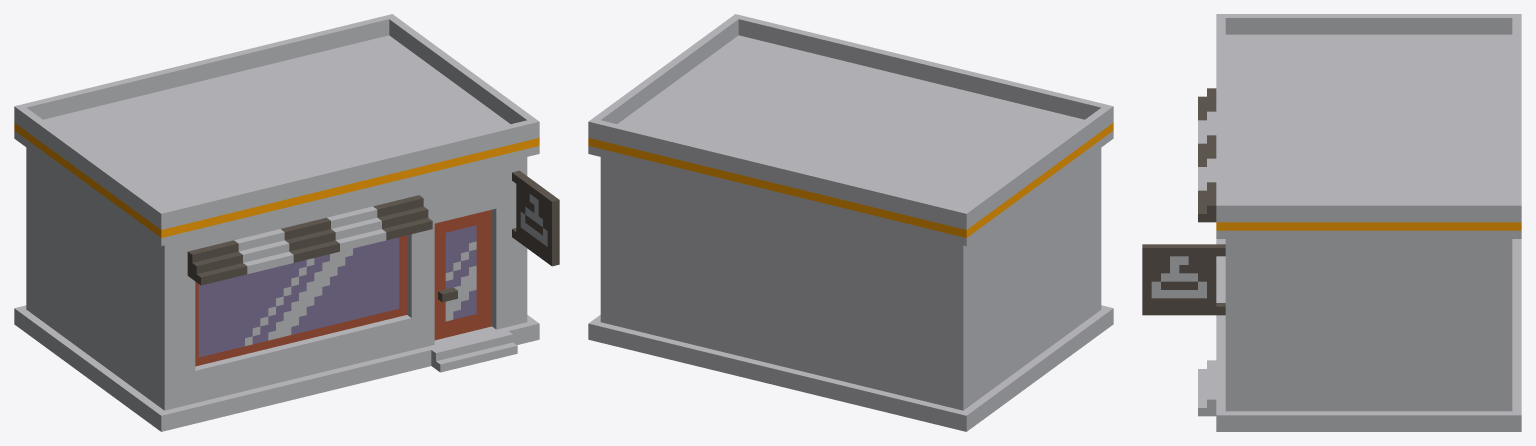
Rendered from clothes_shop_a.obj.
The picture shows the model from 3 angles, left to right: view 1: azimuth 30°, elevation 25°; view 2: azimuth 150°, elevation 25°; view 3: azimuth 270°, elevation 25°; orthographic projection. The views are drawn at different scales.
Bounding box in the file's own units: 4.9 × 2.7 × 4.1.
Materials: 1 (1 with a texture image).
